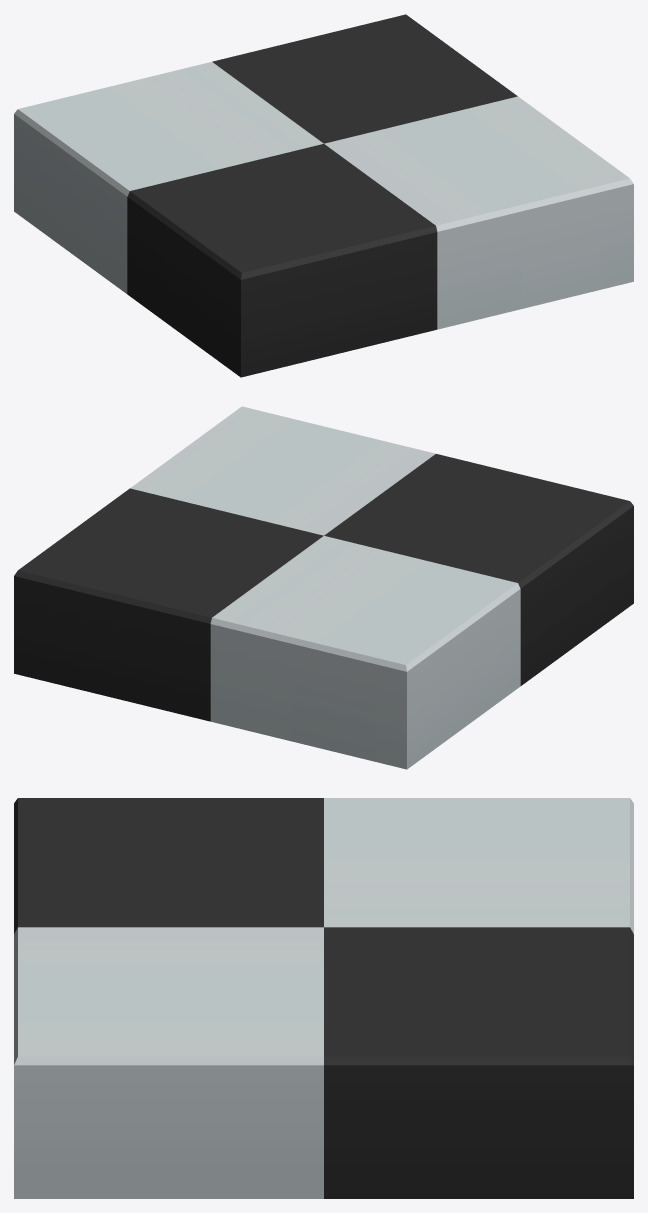
Rendered from kaykit-restaurant-bits-floor-kitchen-small.glb.
The picture shows the model from 3 angles, top to bottom: view 1: azimuth 30°, elevation 25°; view 2: azimuth 150°, elevation 25°; view 3: azimuth 270°, elevation 25°; orthographic projection. The views are drawn at different scales.
Visible parts, largest first — view 1: floor_kitchen_small; view 2: floor_kitchen_small; view 3: floor_kitchen_small.
Boxes of the visible parts, bbox=[...] form: floor_kitchen_small: bbox=[14, 14, 633, 377]; floor_kitchen_small: bbox=[14, 406, 633, 769]; floor_kitchen_small: bbox=[14, 798, 633, 1198].
Size of the model in its own units: 2 by 0.5001 by 2.
1 material, 1 textured.
